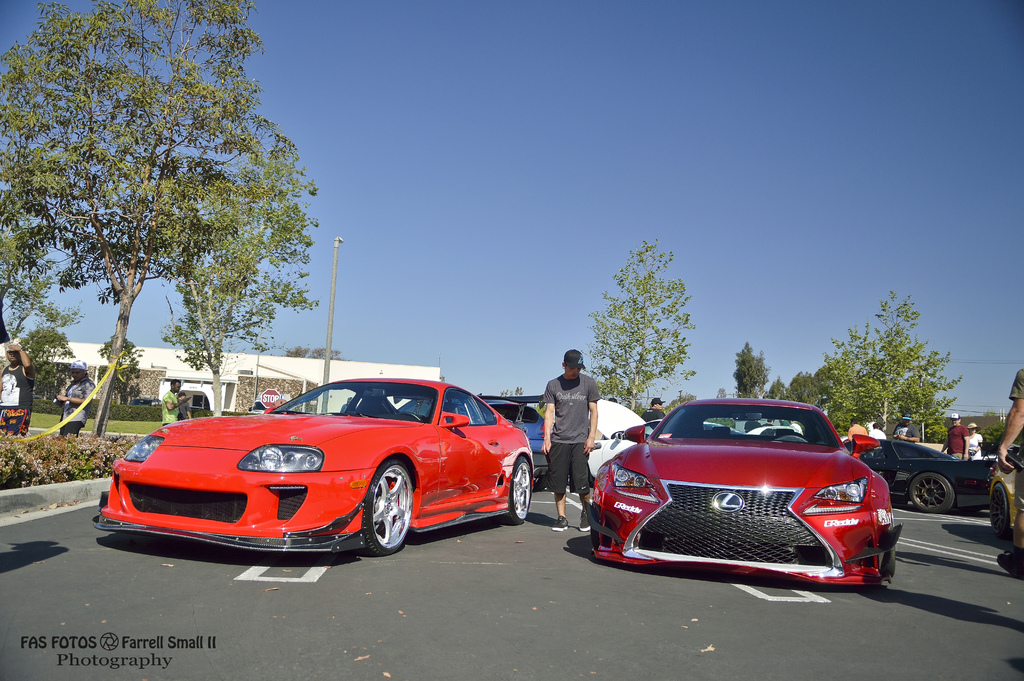mobil: (85, 378, 553, 561), (612, 402, 891, 587)
